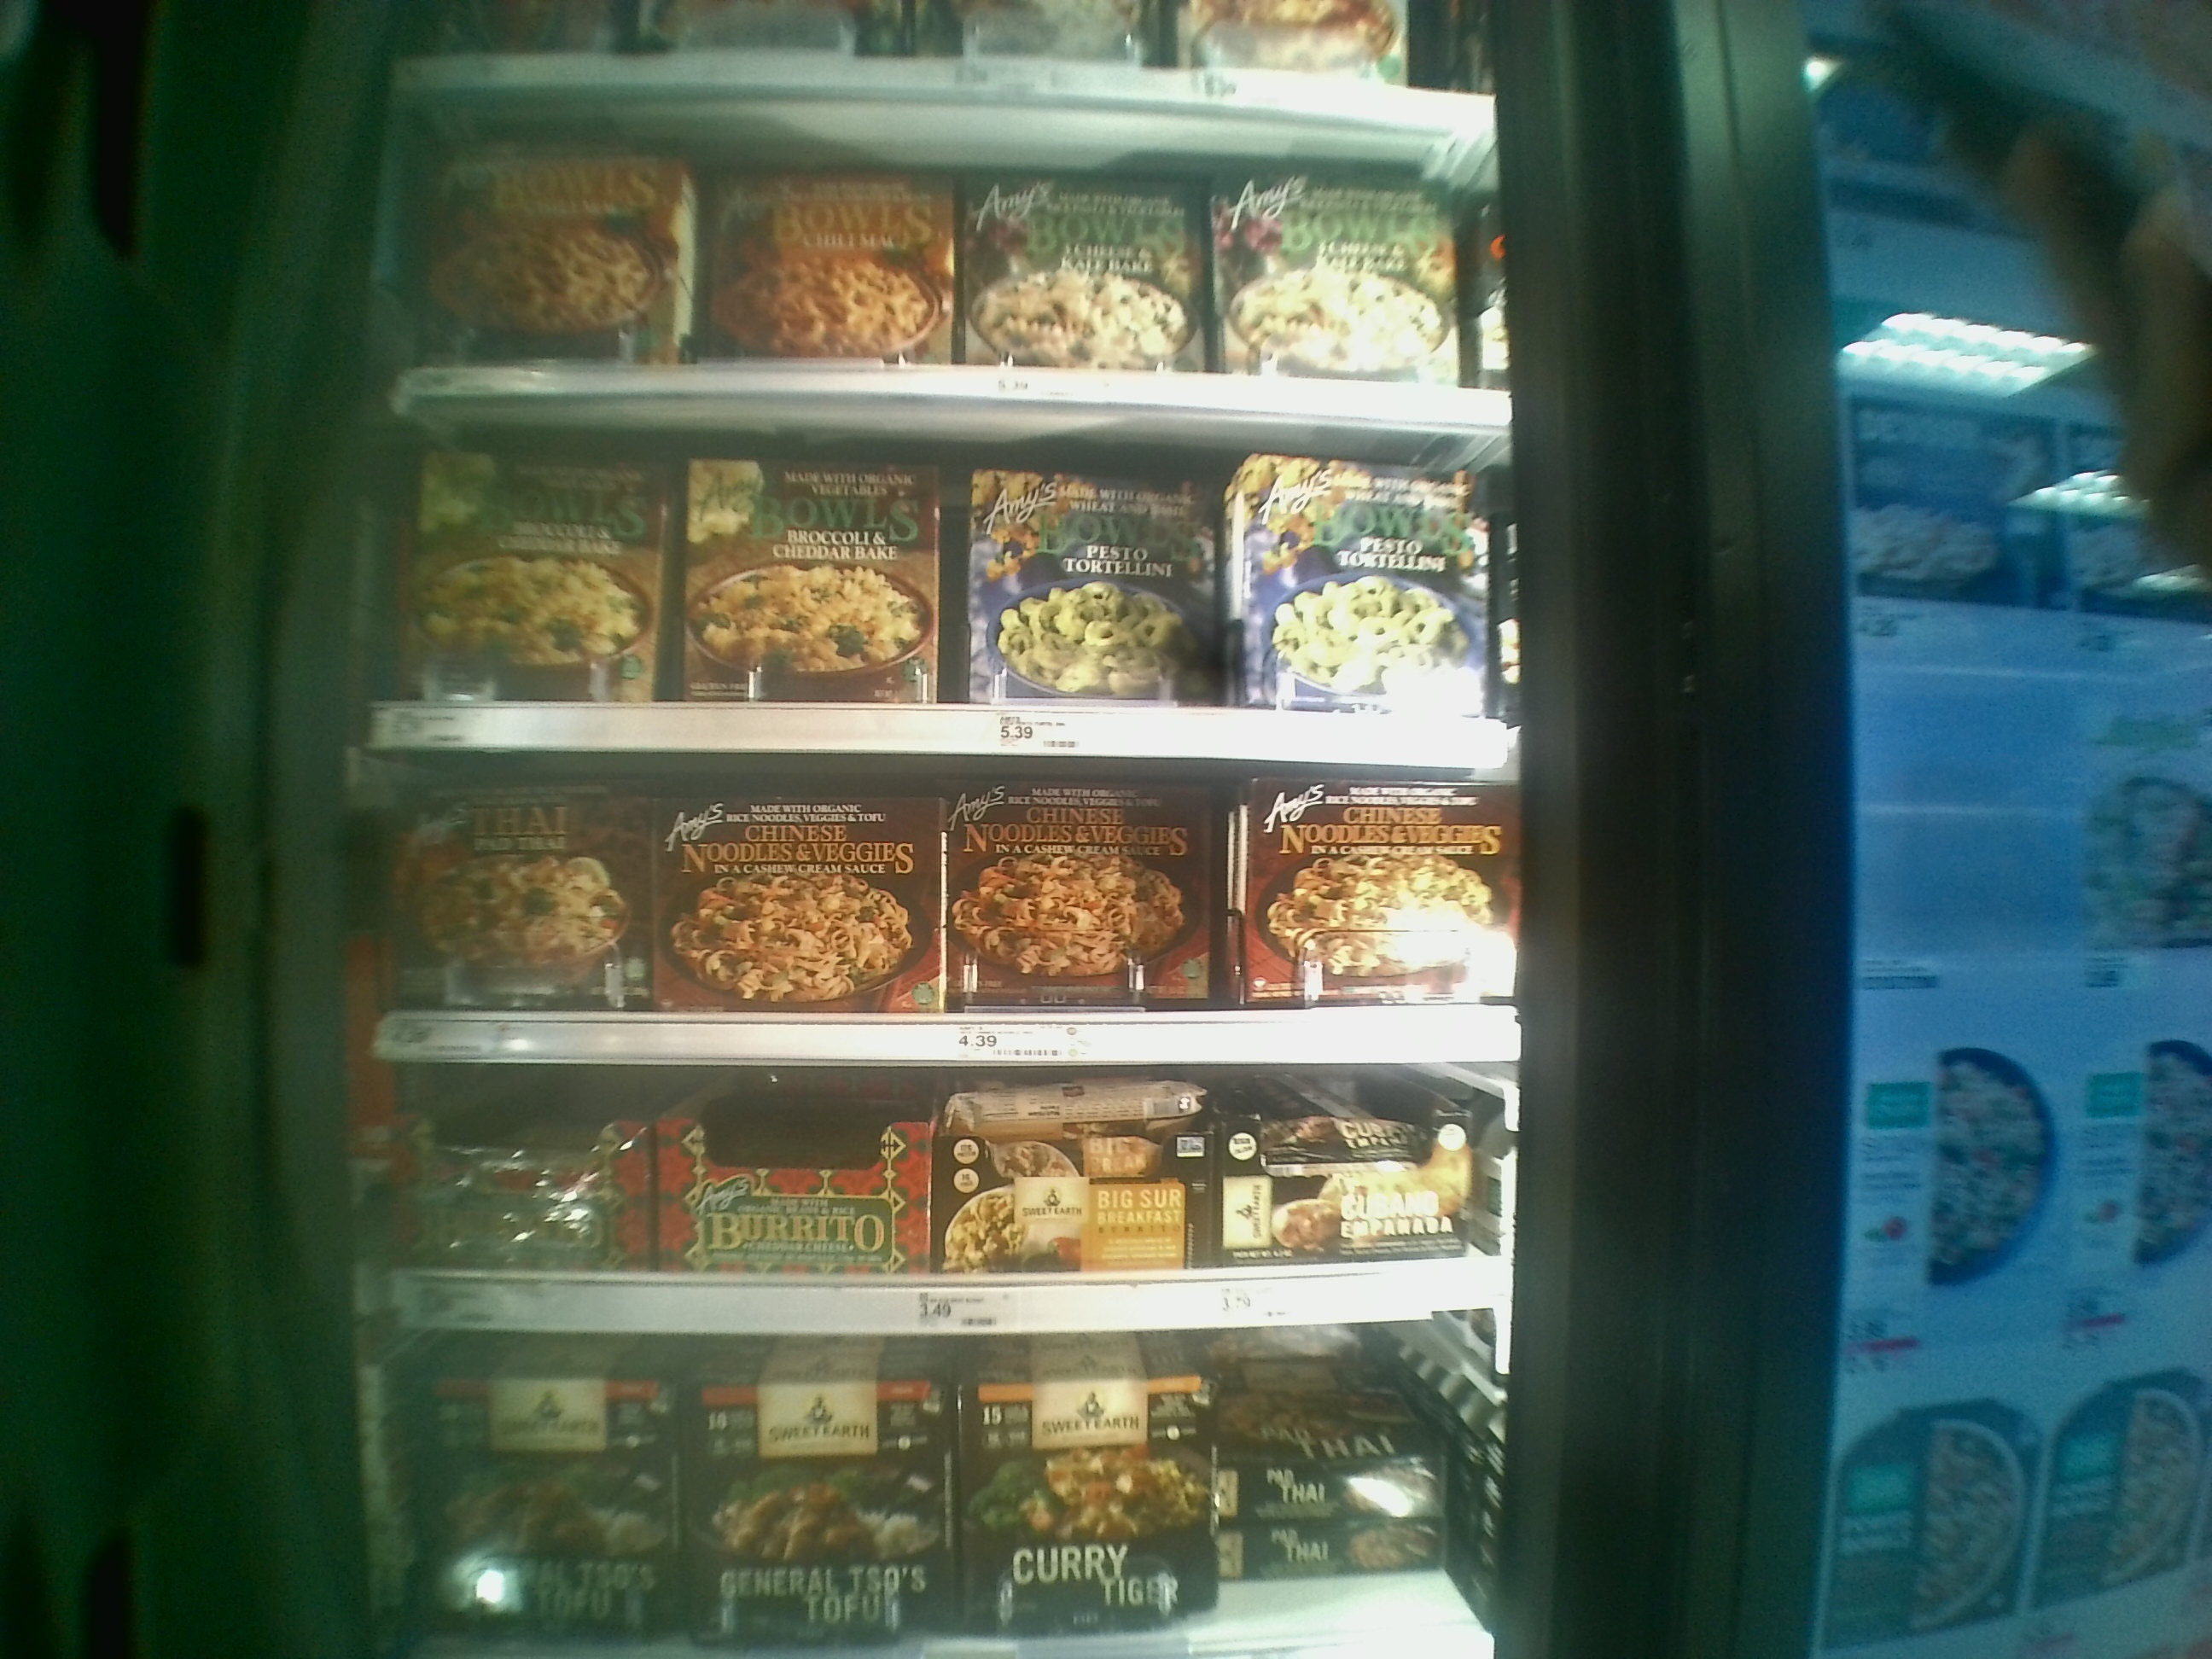frozen-food-shelf: (350, 105, 1526, 432), (348, 437, 1536, 762), (348, 763, 1526, 1070), (350, 1070, 1526, 1337)
